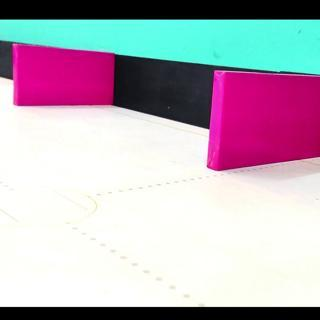xparking: (217, 76, 320, 177), (18, 55, 112, 113)
